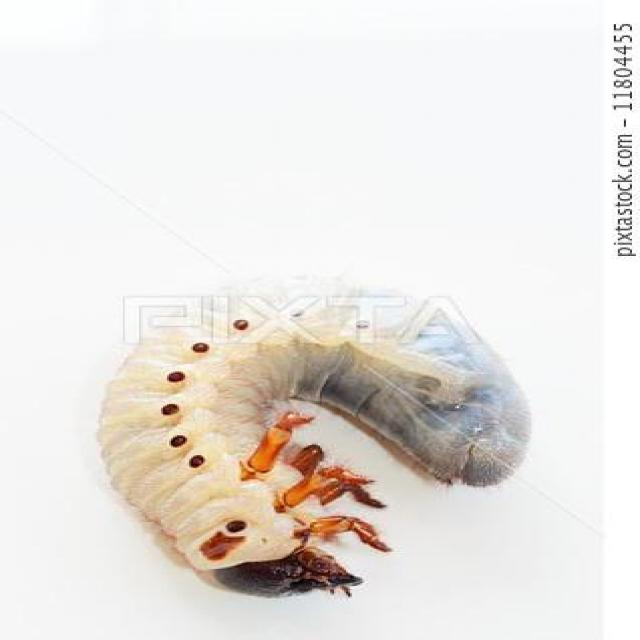Grub-Adult-: (88, 272, 540, 602)
